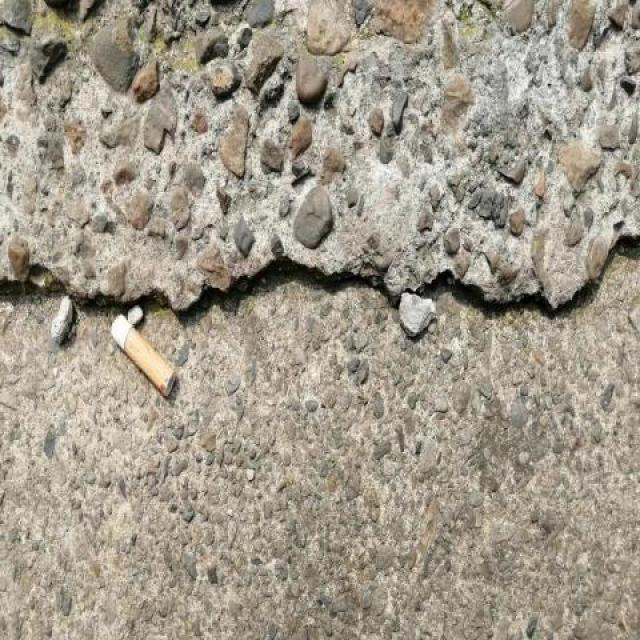non-organic waste: (106, 310, 182, 406)
